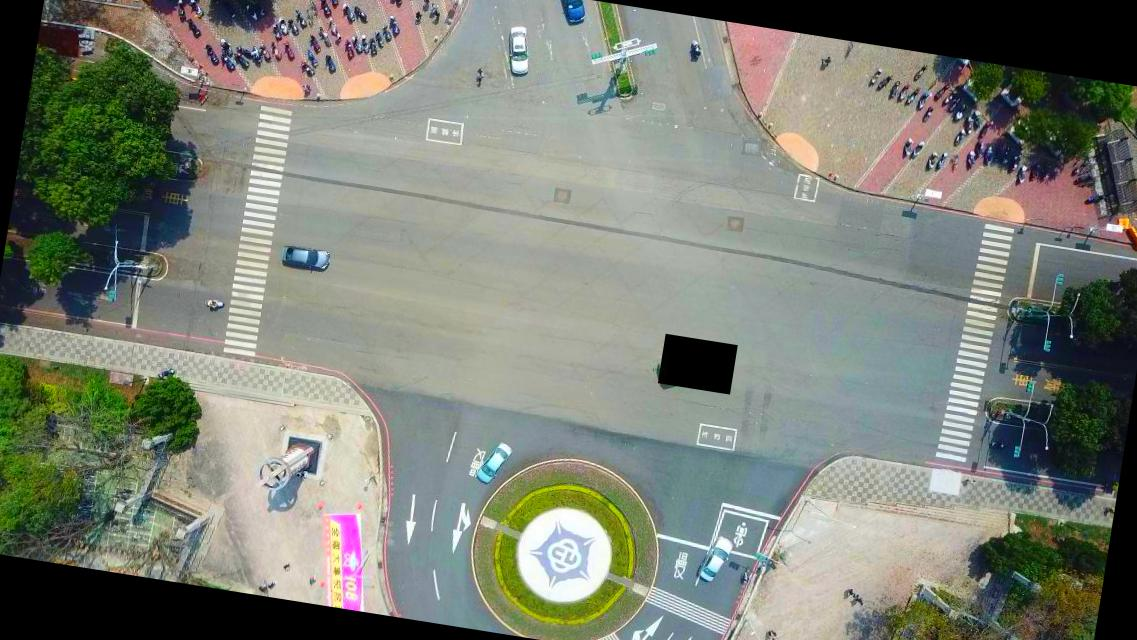vehicle: (694, 530, 738, 586), (474, 436, 514, 486), (500, 22, 536, 76), (279, 244, 331, 272)
